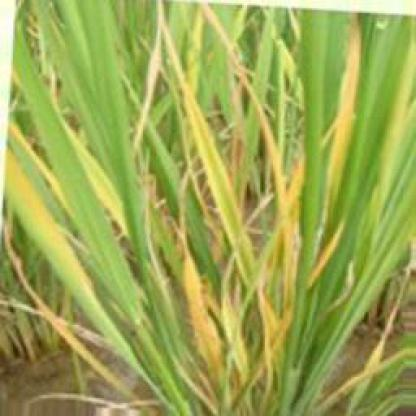Tungro: (155, 43, 295, 396), (11, 153, 138, 364), (48, 100, 151, 251), (173, 227, 235, 415), (320, 17, 372, 201), (344, 300, 408, 416), (300, 217, 352, 305), (206, 8, 240, 47)
